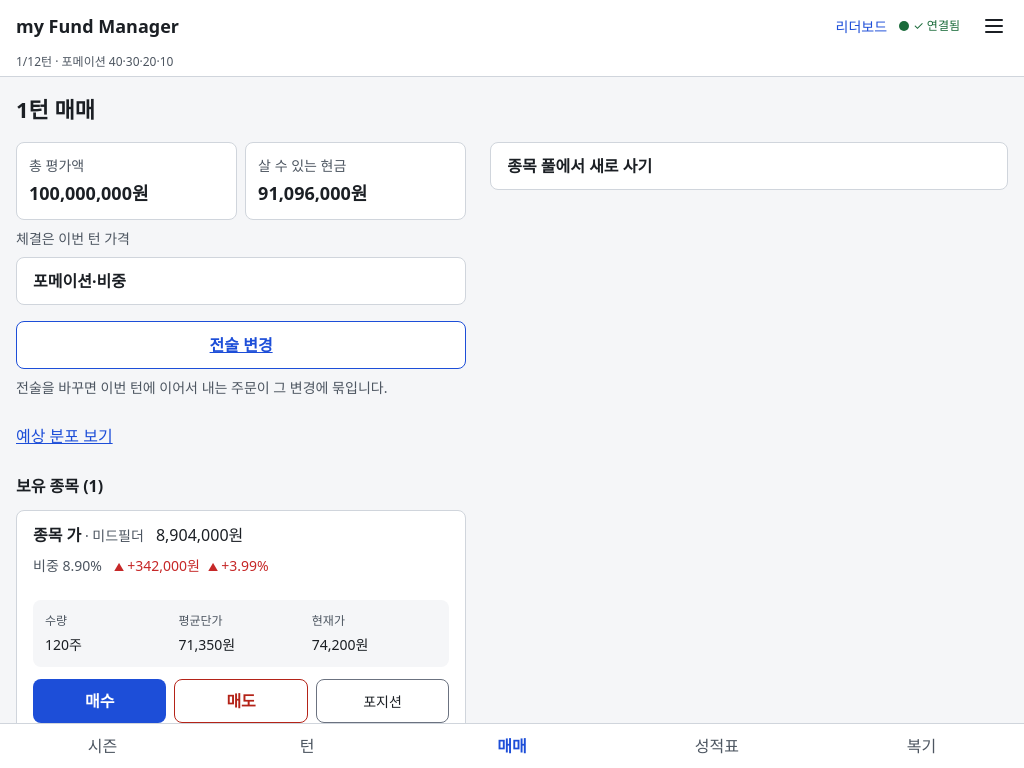
Scenario: compact holdings › shows the kept formation facts once the summary is opened
Click the heading "포메이션·비중" at (79, 281), box left=16, top=257, right=466, bottom=305
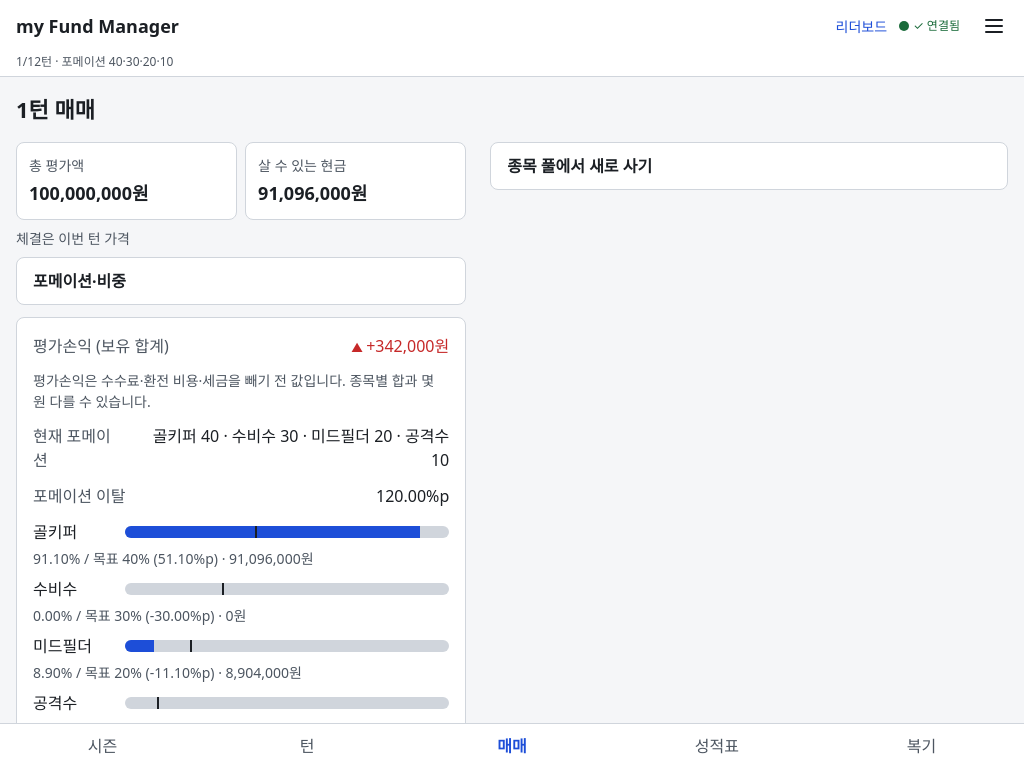
Expected: the text "평가손익 (보유 합계)" is shown, left=33, top=334, right=169, bottom=358
Expected: the text "평가손익은 수수료·환전 비용·세금을 빼기 전 값입니다. 종목별 합과 몇 원 다를 수 있습니다." is shown, left=33, top=370, right=449, bottom=412
Expected: the text "현재 포메이션" is shown, left=33, top=424, right=124, bottom=472
